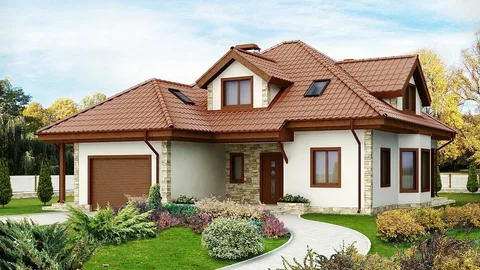private_hause: (69, 34, 441, 209)
